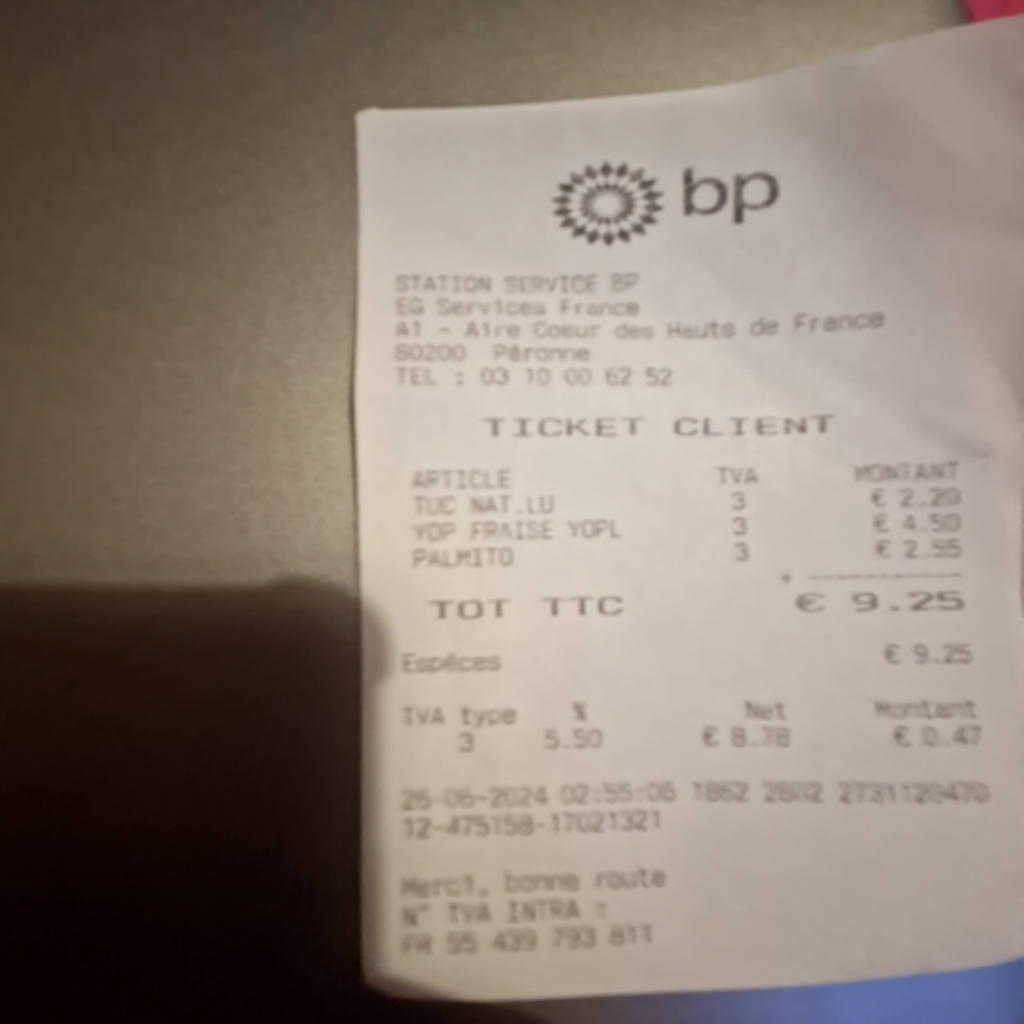recipt: (357, 15, 1024, 1001)
